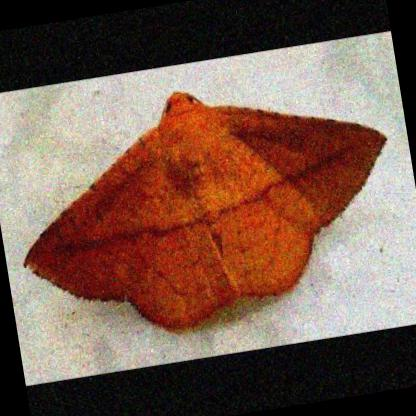Leaf Webber: (17, 85, 389, 338)
